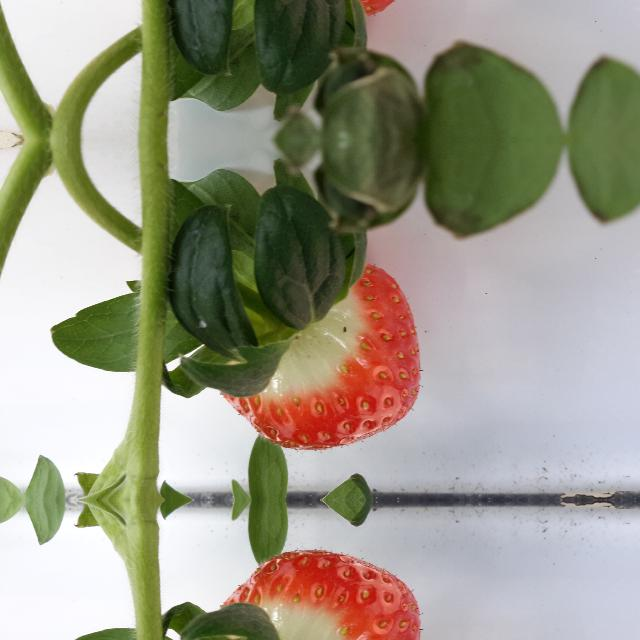Health_100: (222, 264, 422, 451), (221, 549, 422, 640)
